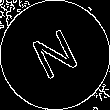N_SE: (26, 23, 84, 87)
